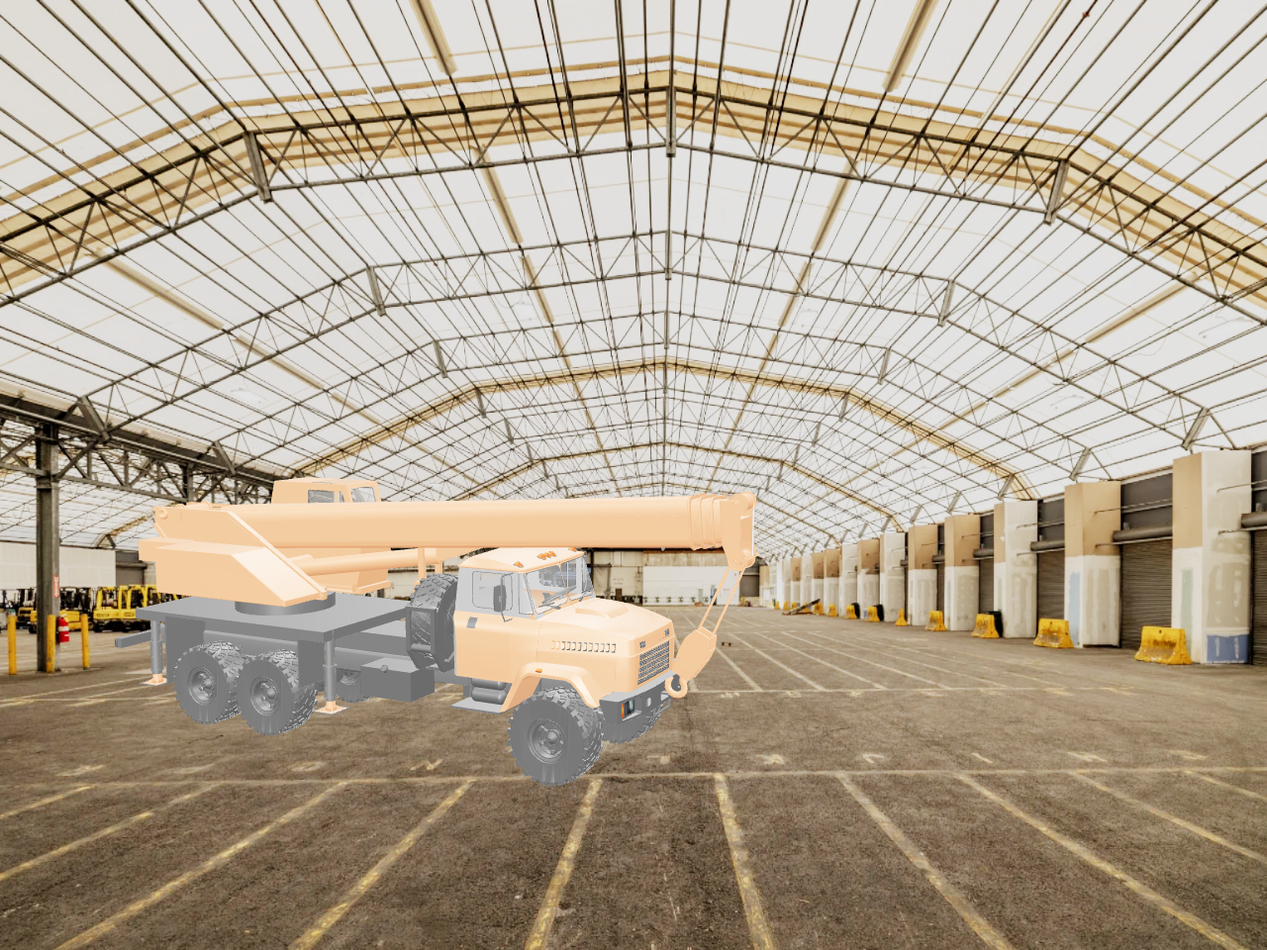Crane: (115, 477, 760, 787)
